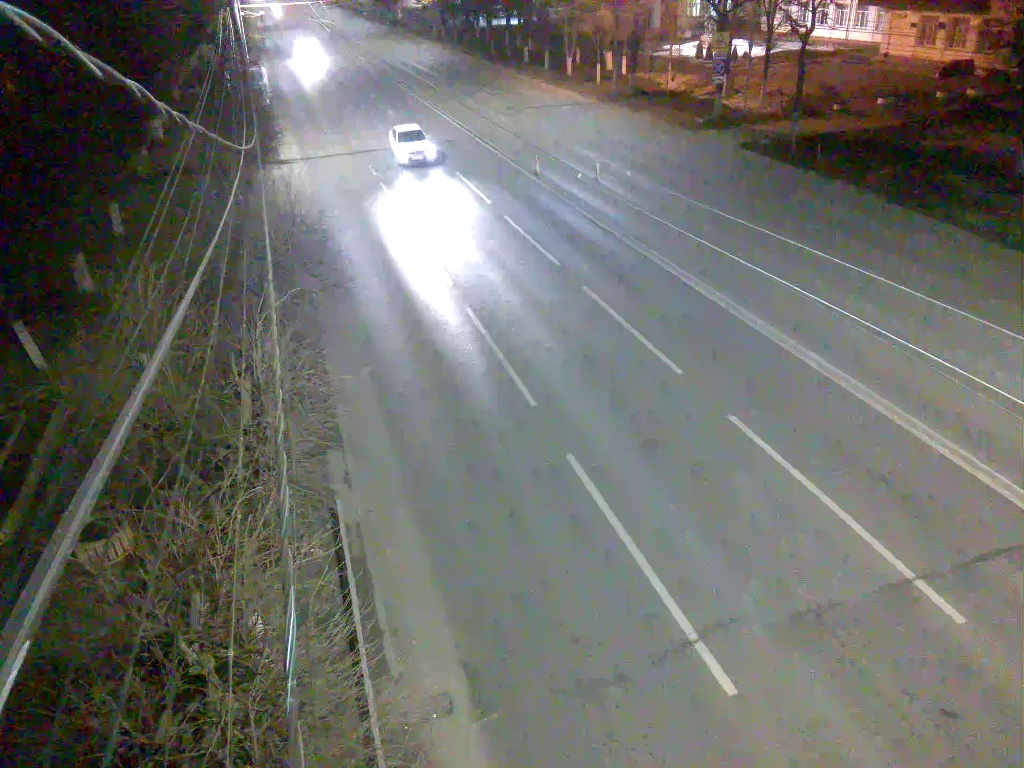car: (381, 121, 448, 172)
